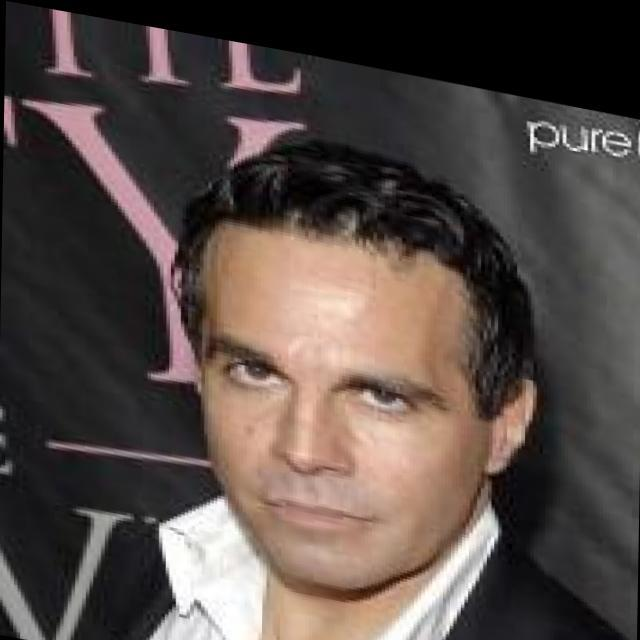Nonhelmet: (166, 132, 546, 594)
